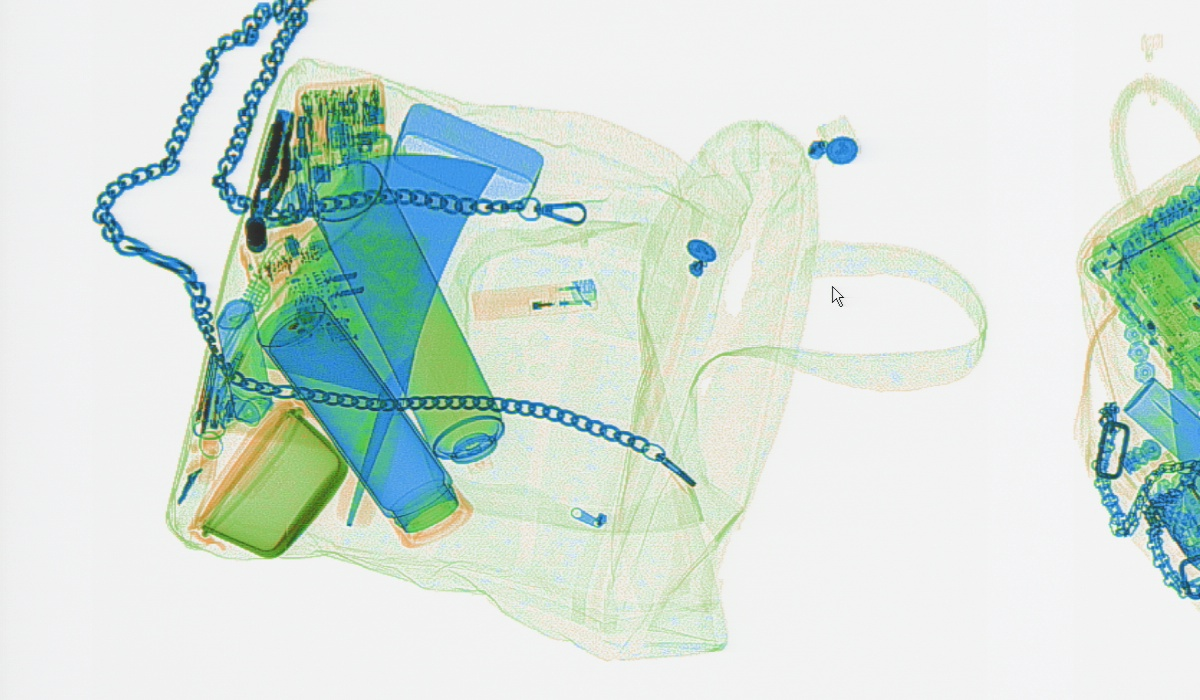lighter: (469, 276, 600, 322)
pressure: (306, 159, 505, 478)
